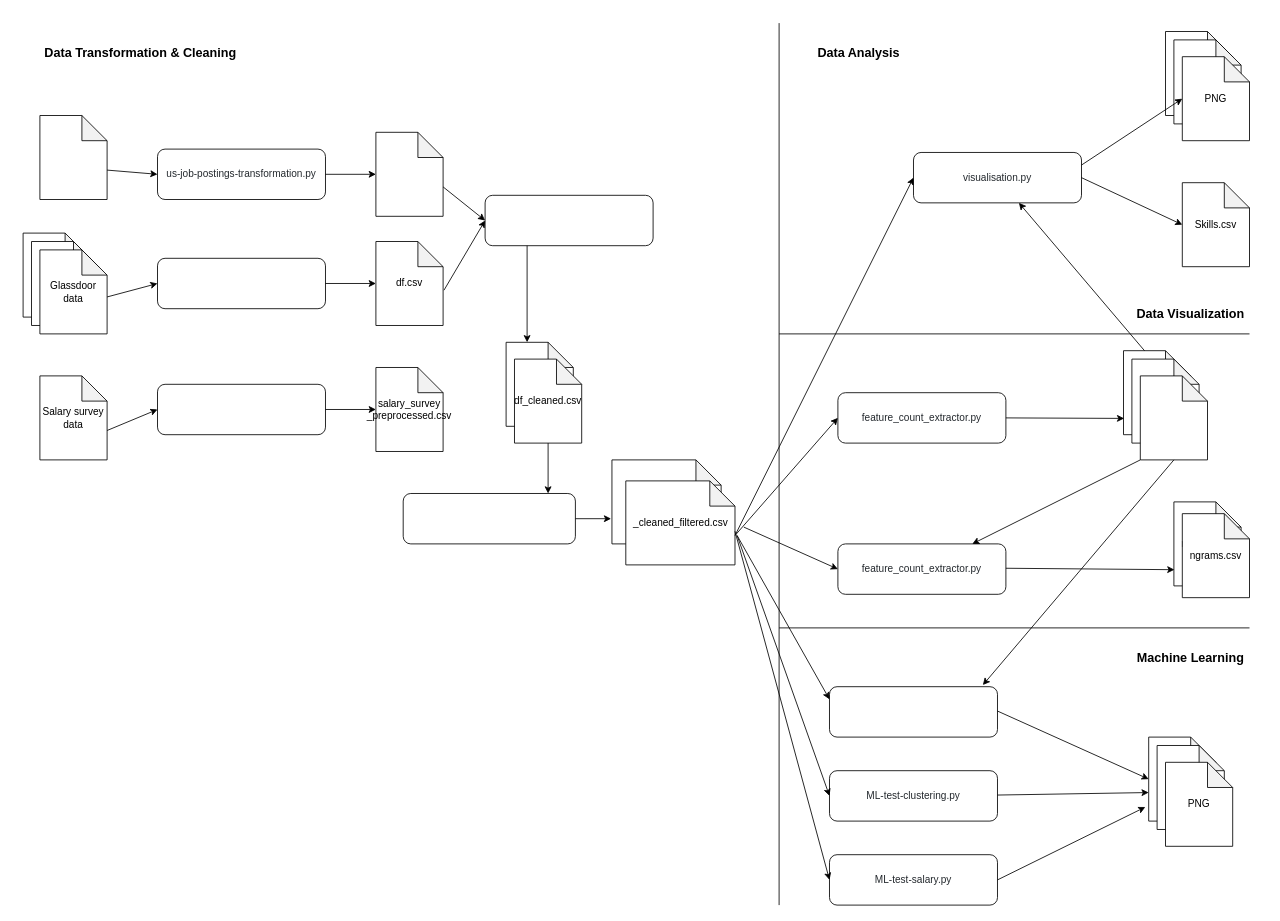
Some shapes in this 1280 by 921 pixel diagram are drawn without their labels. The shapes that lost their labels are listed below. From the top down, each one's centre as x and y in pixels, then its label:
At (73,157): "JobPickr data".
At (409,173): "data-scientist... preprocessed.csv".
At (568,220): "data-cleaning.py".
At (241,283): "preprocessing_concatenation.py".
At (241,409): "salary-survey-transformation.py".
At (1173,417): "Skill statistics".
At (488,518): "job-filtering.py".
At (913,711): "ML.py".
